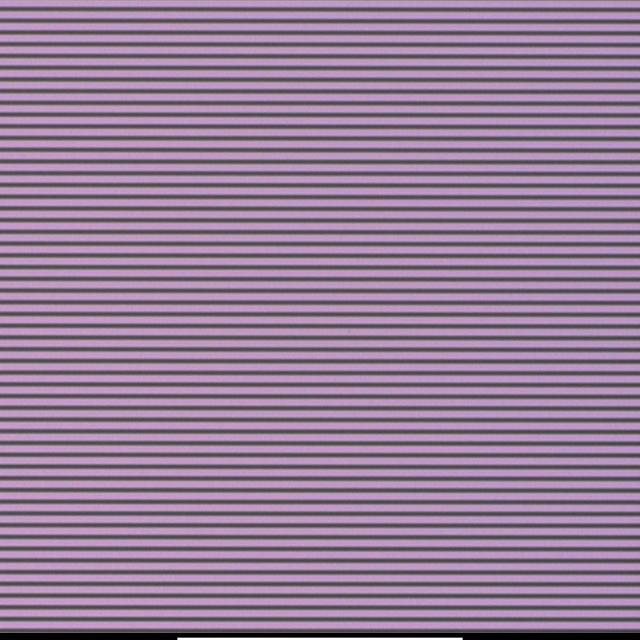nonvisual: (328, 251, 338, 260)
